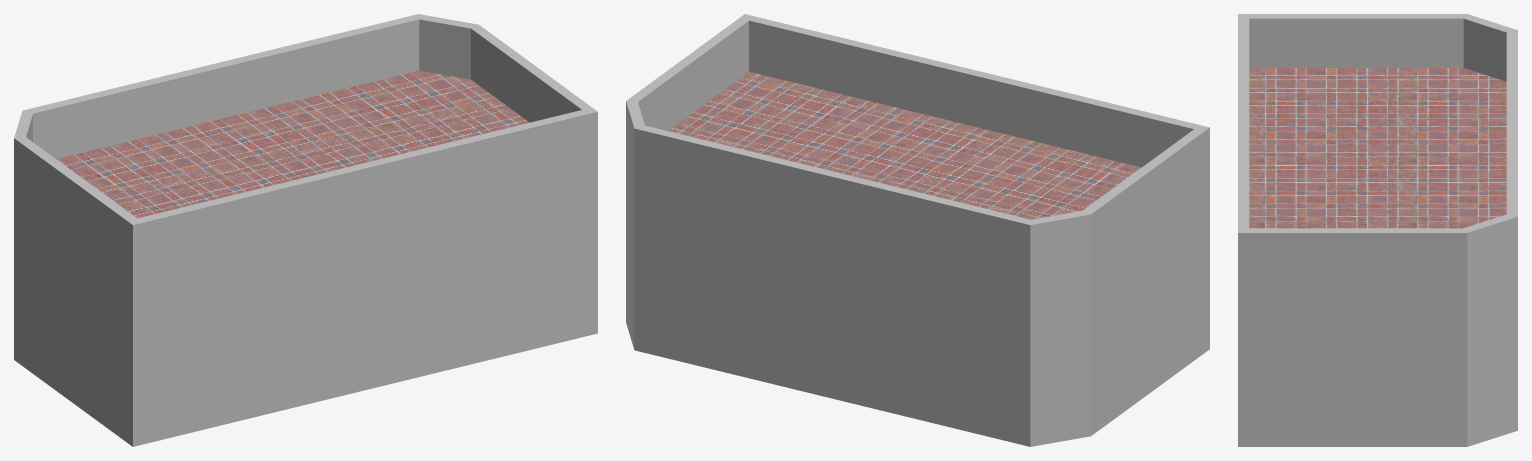
The model's file is hirise_parts02_1f.fbx.
3 renders of one model, left to right at view 1: azimuth 30°, elevation 25°; view 2: azimuth 150°, elevation 25°; view 3: azimuth 270°, elevation 25°, orthographic. The views are drawn at different scales.
Visible parts, largest first — view 1: hirise_parts02_1f; view 2: hirise_parts02_1f; view 3: hirise_parts02_1f.
Boxes of the visible parts, x1=… form: hirise_parts02_1f: x1=14, y1=14, x2=597, y2=446; hirise_parts02_1f: x1=626, y1=14, x2=1209, y2=446; hirise_parts02_1f: x1=1238, y1=14, x2=1517, y2=446.
Size of the model in its own units: 12.59 by 5.74 by 6.8.
